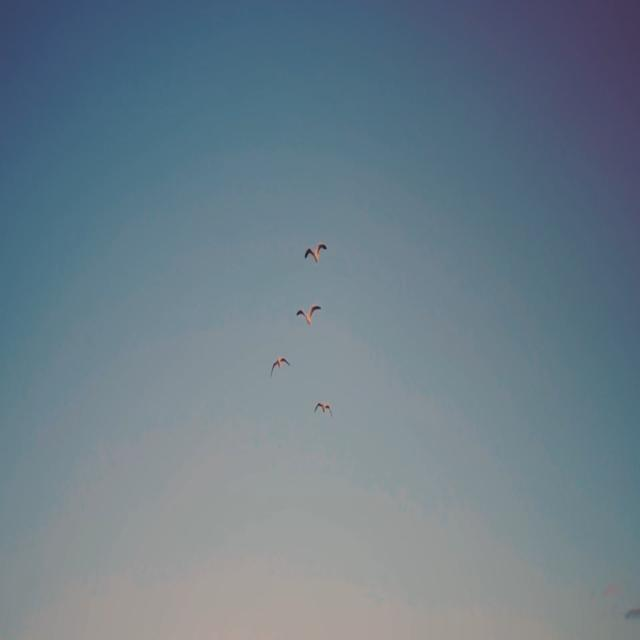bird: (296, 304, 322, 326), (304, 242, 328, 264), (270, 356, 291, 379), (313, 400, 333, 419)
